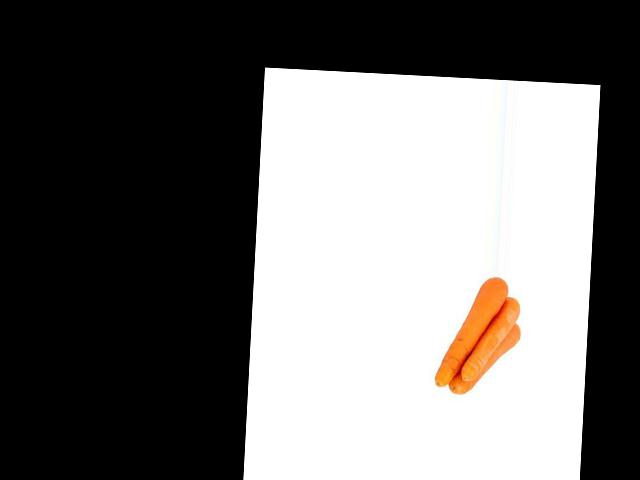carrot: (459, 294, 521, 386)
